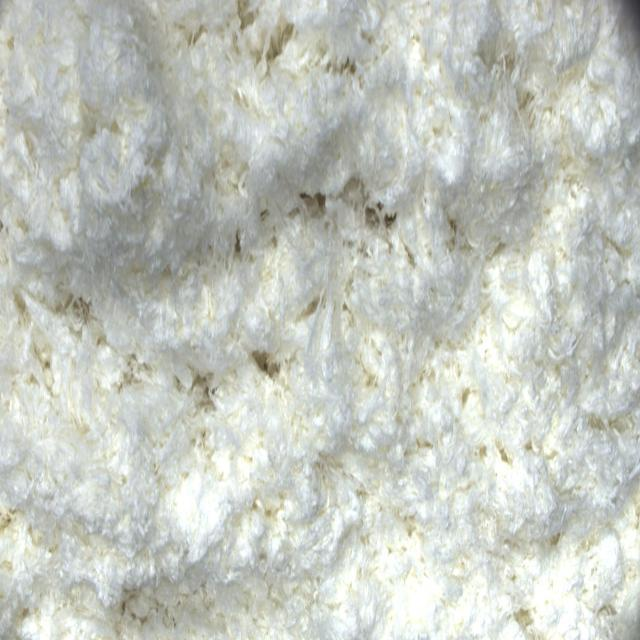dust: (239, 4, 302, 62), (251, 347, 286, 378)
